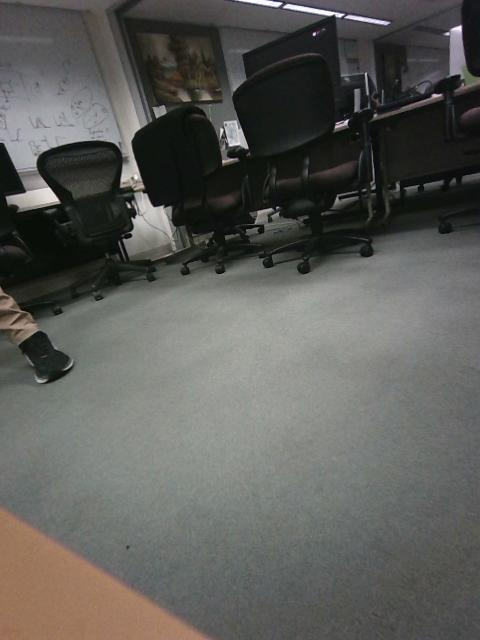block: (103, 299, 150, 344)
